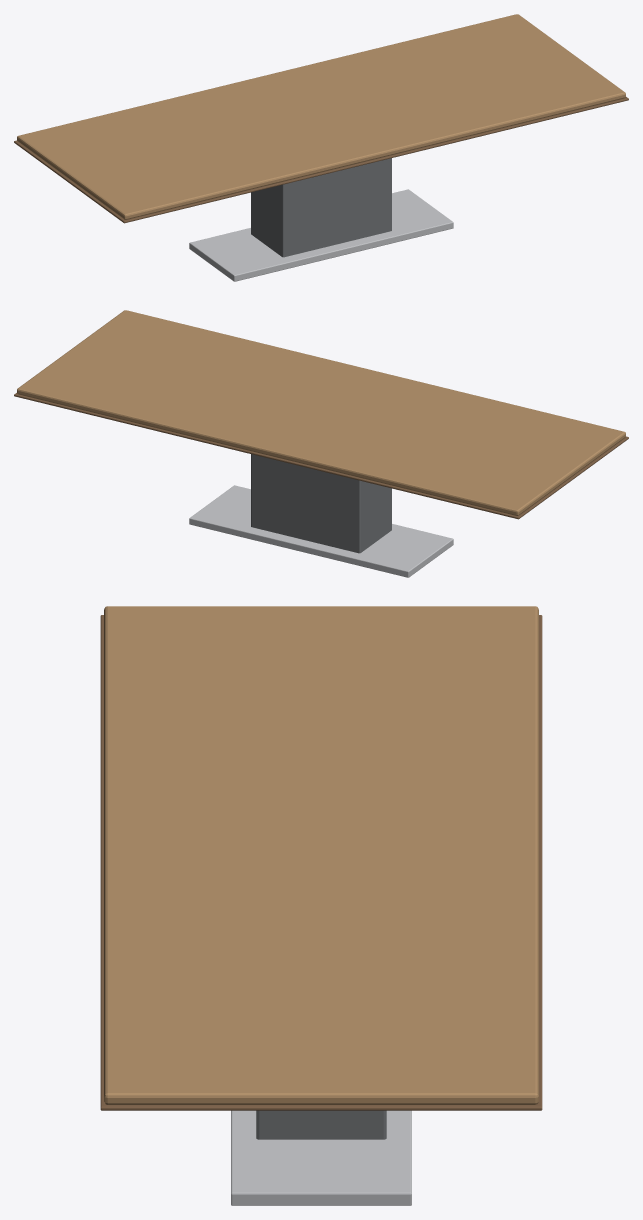
File: furniture-conference-table.glb
The picture shows the model from 3 angles, top to bottom: view 1: azimuth 30°, elevation 25°; view 2: azimuth 150°, elevation 25°; view 3: azimuth 270°, elevation 25°; orthographic projection. The views are drawn at different scales.
Visible parts, largest first — view 1: Top.001, Pedestal.001, Foot.001, Edge; view 2: Top.001, Pedestal.001, Foot.001, Edge; view 3: Top.001, Foot.001, Edge, Pedestal.001.
Boxes of the visible parts, x1,y1,x2,y2 form: Top.001: (17,14,625,219); Pedestal.001: (251,158,391,257); Foot.001: (189,189,453,281); Edge: (14,97,628,223); Top.001: (17,310,625,515); Pedestal.001: (251,454,391,553); Foot.001: (189,485,453,577); Edge: (14,393,628,519); Top.001: (104,606,538,1104); Foot.001: (231,1110,411,1205); Edge: (100,615,542,1110); Pedestal.001: (256,1110,386,1139).
Size of the model in its own units: 3.22 by 0.76 by 1.22.
